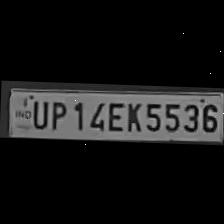1: (66, 96, 86, 130)
3: (180, 98, 198, 131)
4: (84, 96, 106, 130)
5: (141, 98, 161, 132), (160, 98, 180, 132)
6: (198, 98, 218, 132)
E: (104, 97, 124, 131)
K: (122, 98, 144, 132)
P: (46, 96, 68, 130)
U: (28, 95, 48, 128)
